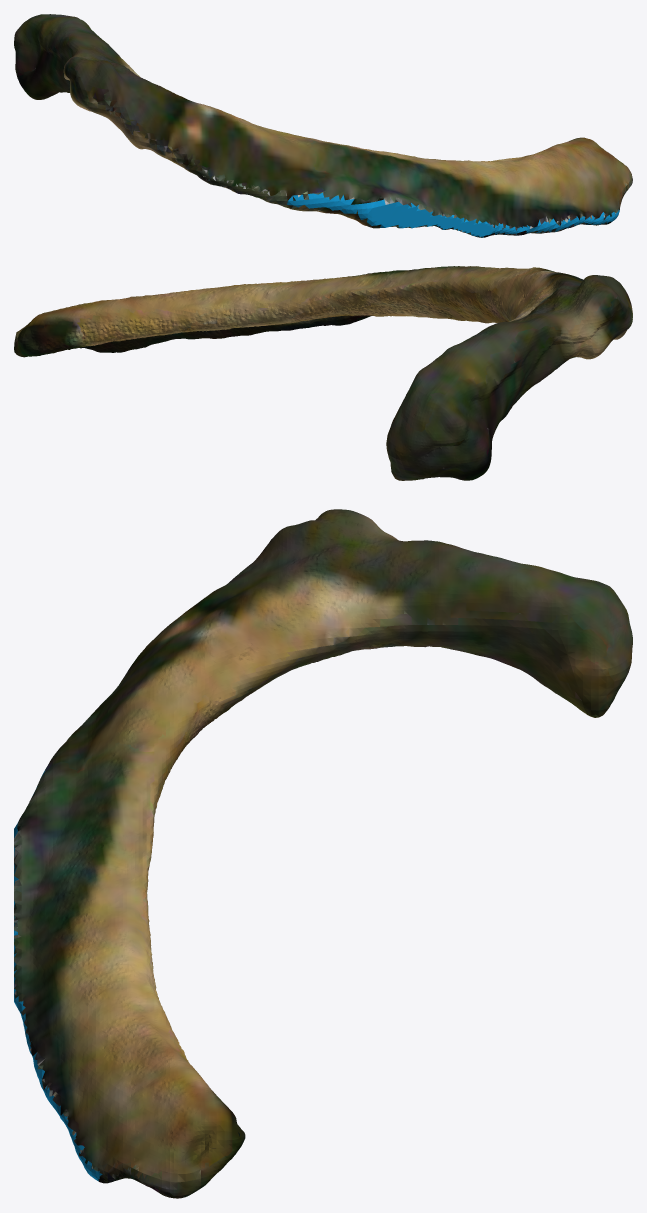
File: 4l_ribs.glb
The picture shows the model from 3 angles, top to bottom: view 1: azimuth 30°, elevation 25°; view 2: azimuth 150°, elevation 25°; view 3: azimuth 270°, elevation 25°; orthographic projection. The views are drawn at different scales.
Visible parts, largest first — view 1: Node; view 2: Node; view 3: Node.
Boxes of the visible parts, <box> form: Node: <box>14,14,632,237</box>; Node: <box>14,266,632,480</box>; Node: <box>14,509,632,1198</box>.
Size of the model in its own units: 32.04 by 12.96 by 21.99.
Materials: 1 (1 with a texture image).
